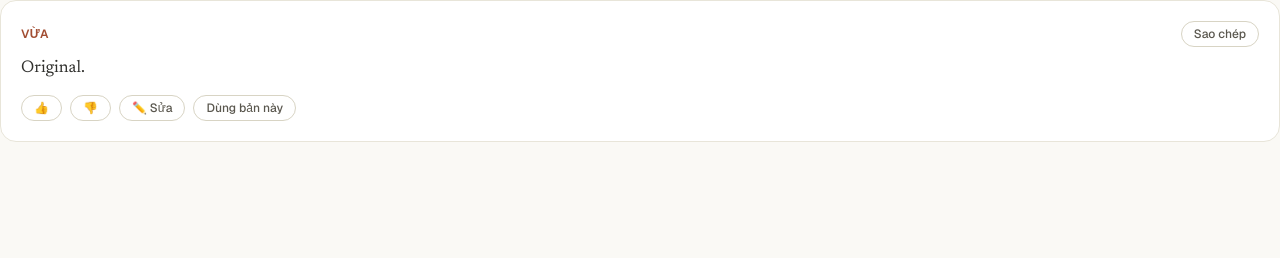
it: ReplyOptionCard feedback actions › editing › cancels without saving
The width and height of the screenshot is (1280, 258).
Click the button "✏️ Sửa": (152,108) [119,95,185,121]
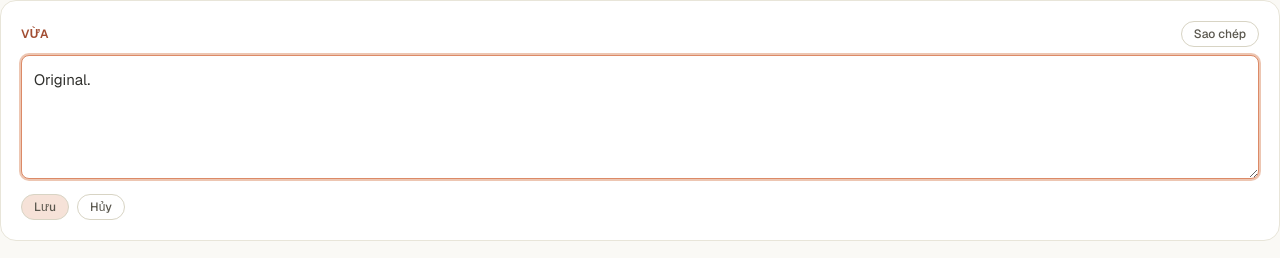
Replace the text in the text box named "sửa bản nháp vừa" with "Something else": (640,117) [21,55,1259,178]
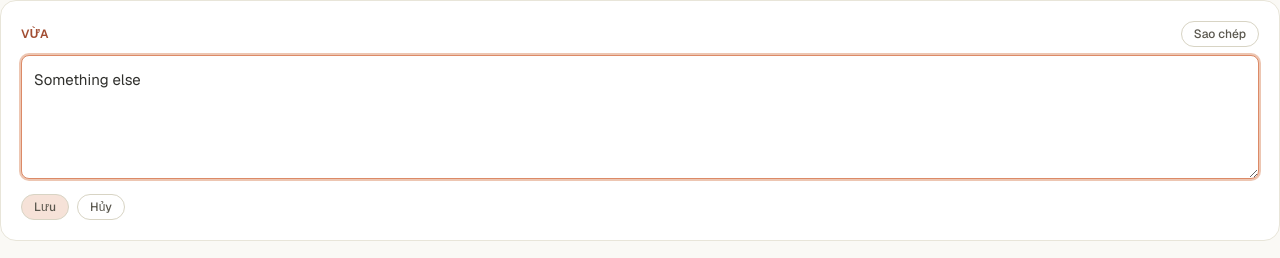
Click the button "Hủy": (101,206) [77,194,125,220]
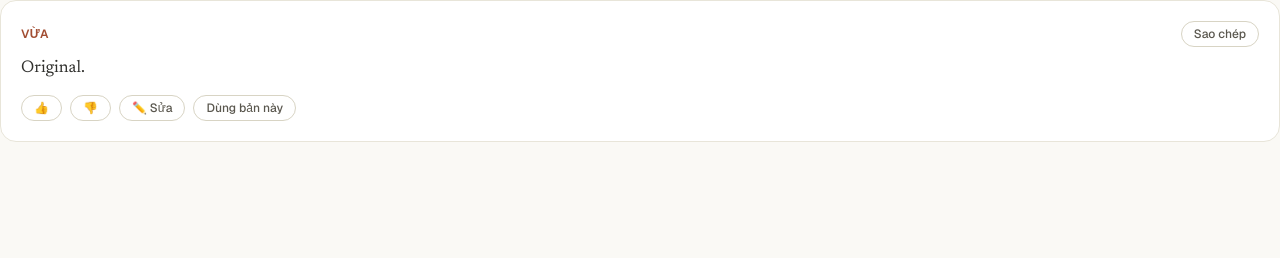
Result: the text "Original." is shown at [21,60,85,77]
